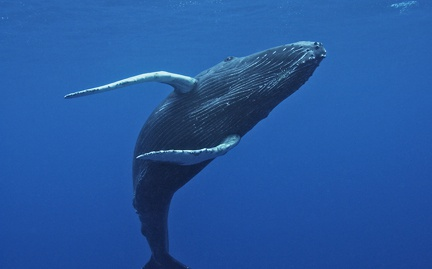humpback: (132, 44, 328, 269)
